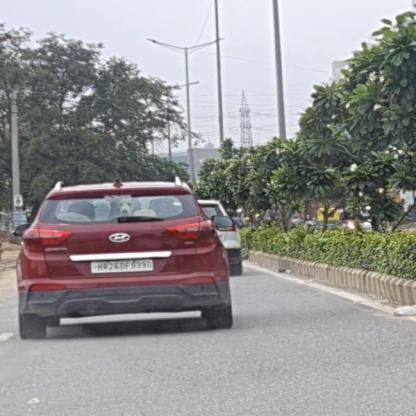car: (14, 176, 233, 340), (198, 199, 245, 276)
